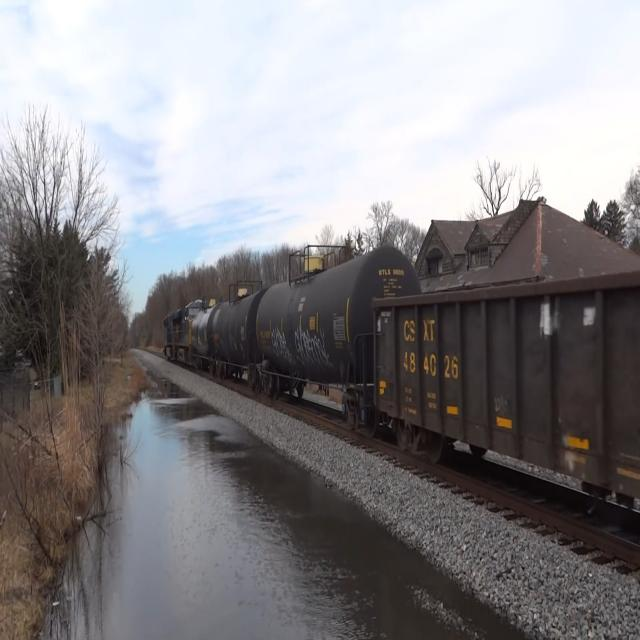gondola: (376, 256, 640, 550)
tank: (259, 240, 432, 442), (211, 280, 268, 392)
